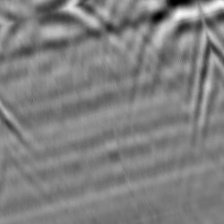Utility: (1, 0, 128, 56), (137, 0, 224, 58)
